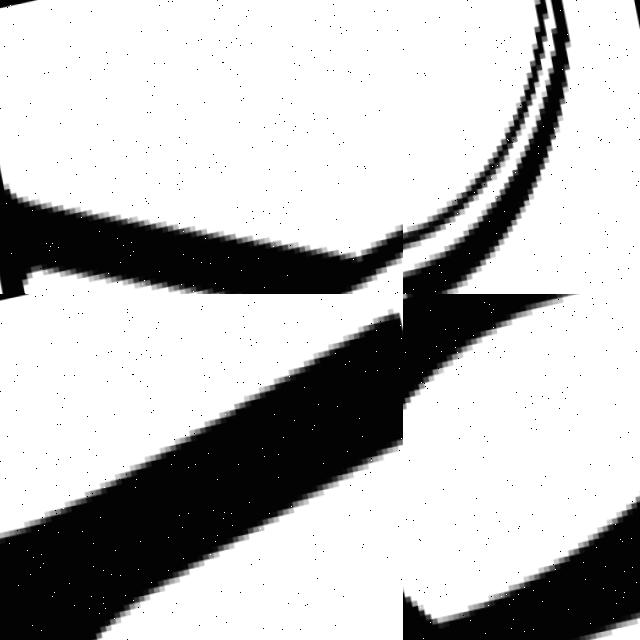5: (403, 0, 640, 294)
A: (403, 294, 640, 640)
R: (0, 302, 403, 640)
Y: (0, 39, 403, 294)
